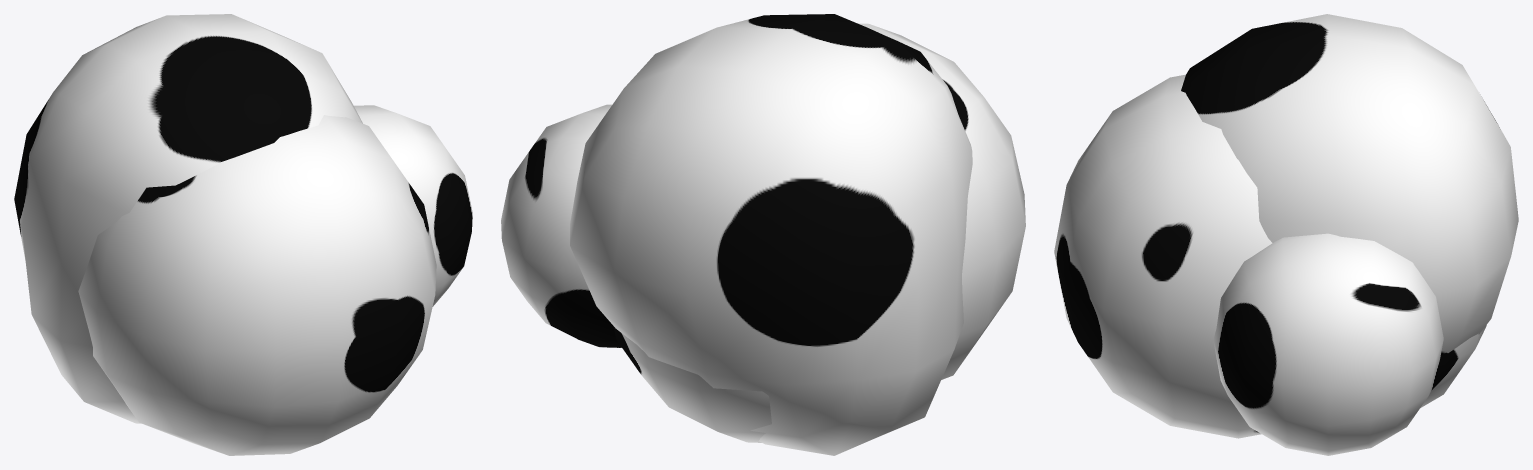
Rendered from Longbo.fbx.
3 renders of one model, left to right at view 1: azimuth 30°, elevation 25°; view 2: azimuth 150°, elevation 25°; view 3: azimuth 270°, elevation 25°, orthographic. The views are drawn at different scales.
Visible parts, largest first — view 1: Longbo, Longbo4, Longbo1; view 2: Longbo4, Longbo1, Longbo; view 3: Longbo4, Longbo, Longbo1.
Part boxes in pixels (box(x1,y1,x2,y2)): Longbo: box(78, 115, 436, 455); Longbo4: box(14, 14, 362, 423); Longbo1: box(354, 105, 472, 306); Longbo4: box(570, 14, 972, 455); Longbo1: box(501, 104, 771, 442); Longbo: box(858, 23, 1025, 379); Longbo4: box(1181, 14, 1518, 354); Longbo: box(1054, 74, 1272, 438); Longbo1: box(1213, 233, 1486, 455).
Size of the model in its own units: 39.23 by 34.59 by 38.41.
